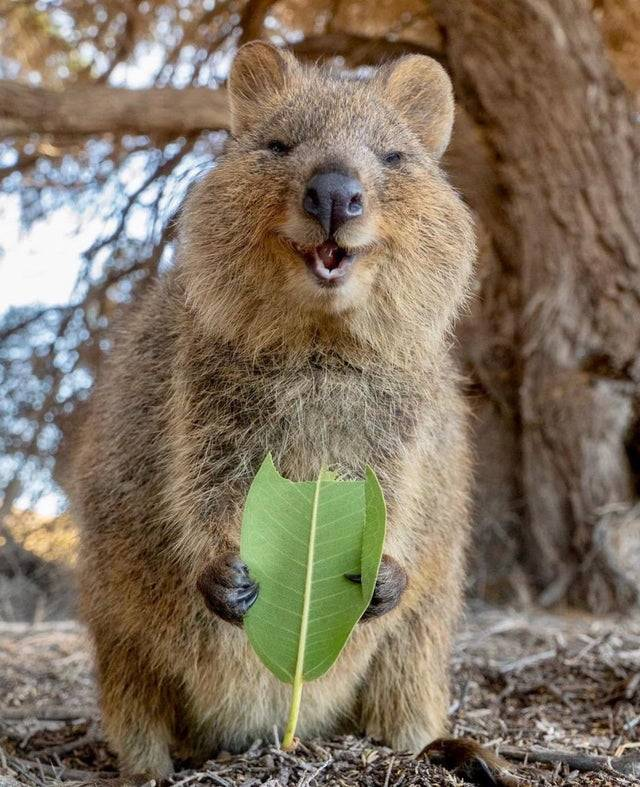quokka: (49, 25, 507, 787)
